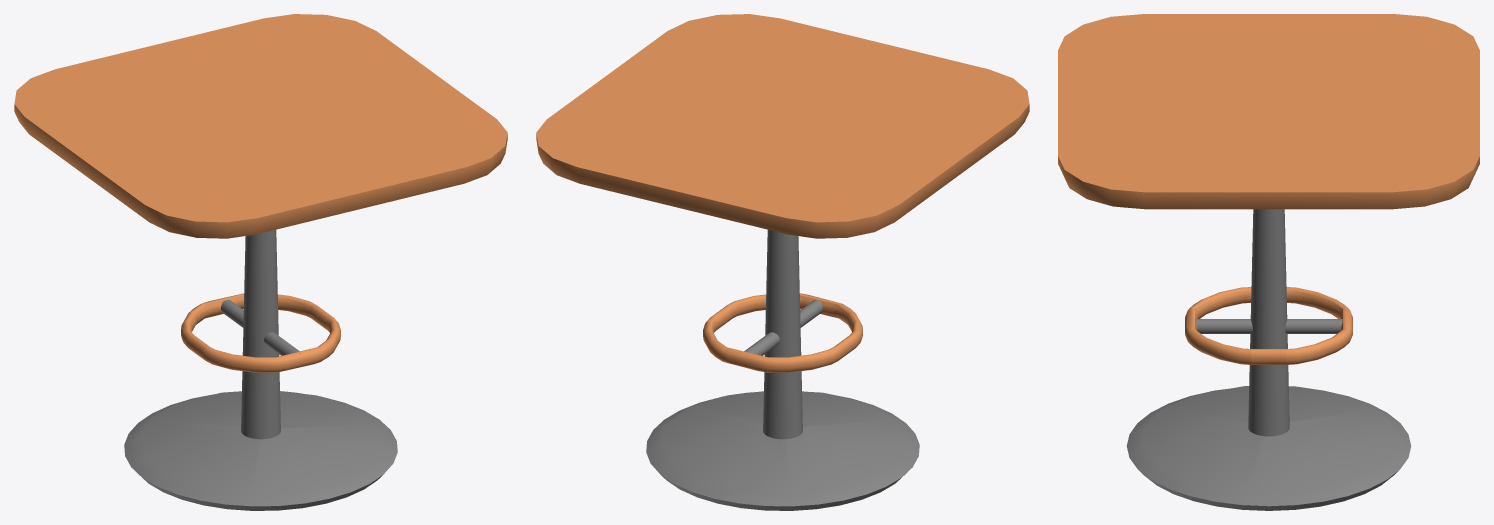
The model's file is Gelecek masa.fbx.
3 renders of one model, left to right at view 1: azimuth 30°, elevation 25°; view 2: azimuth 150°, elevation 25°; view 3: azimuth 270°, elevation 25°, orthographic. The views are drawn at different scales.
Parts seen in each view (by area): view 1: Cube; view 2: Cube; view 3: Cube.
Part boxes in pixels (x1,y1,x2,y2): Cube: (14, 14, 507, 510); Cube: (536, 14, 1029, 510); Cube: (1058, 14, 1479, 510).
Size of the model in its own units: 200 by 184 by 200.
